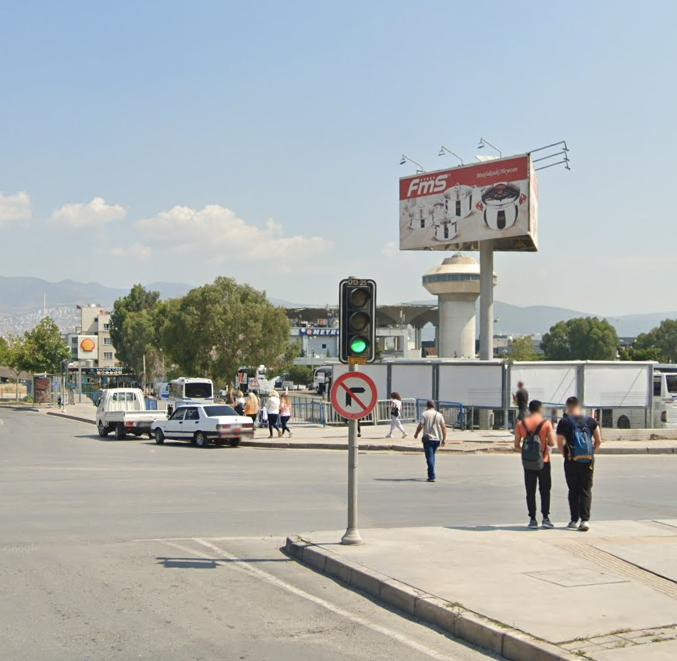greenlight: (342, 278, 377, 359)
rightturnsareforbidden: (334, 369, 377, 421)
